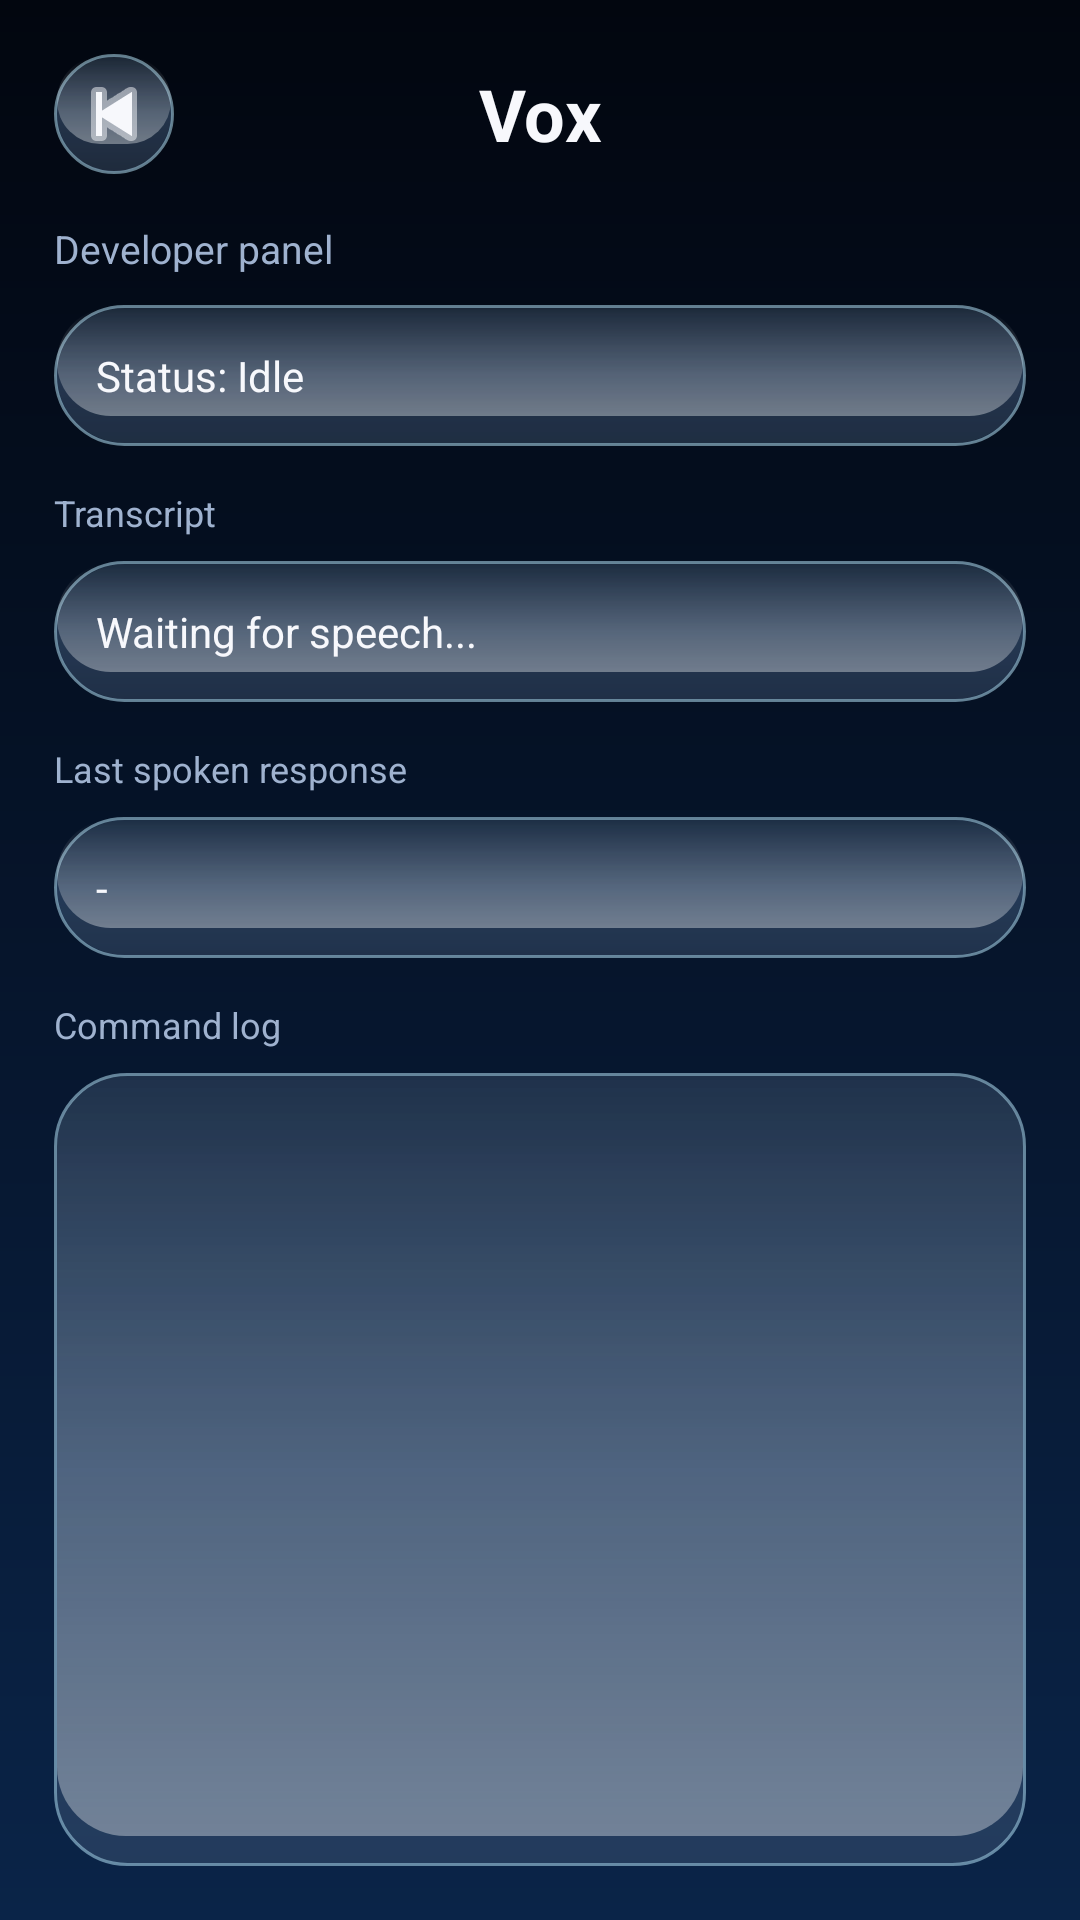

Icons on this 1080w x 1920h Android screen, each with its box as Rect(x1, y1, x2, y2):
Back: Rect(54, 54, 174, 174)
